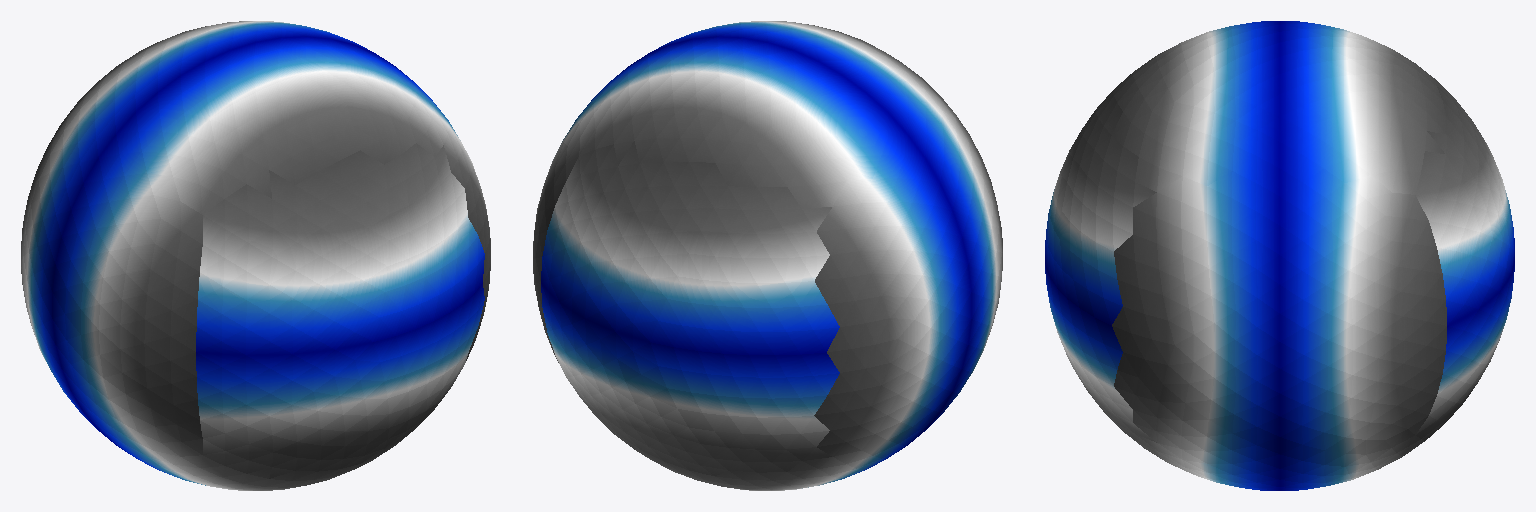
The picture shows the model from 3 angles: view 1: azimuth 30°, elevation 25°; view 2: azimuth 150°, elevation 25°; view 3: azimuth 270°, elevation 25°; orthographic projection.
Visible parts, largest first — view 1: Athmosphere; view 2: Athmosphere; view 3: Athmosphere.
Part boxes in pixels (x1,y1,x2,y2): Athmosphere: (21,21,490,490); Athmosphere: (533,21,1002,490); Athmosphere: (1045,21,1514,490).
Bounding box in the file's own units: 2657 × 2662 × 2662.
3 materials, 3 textured.